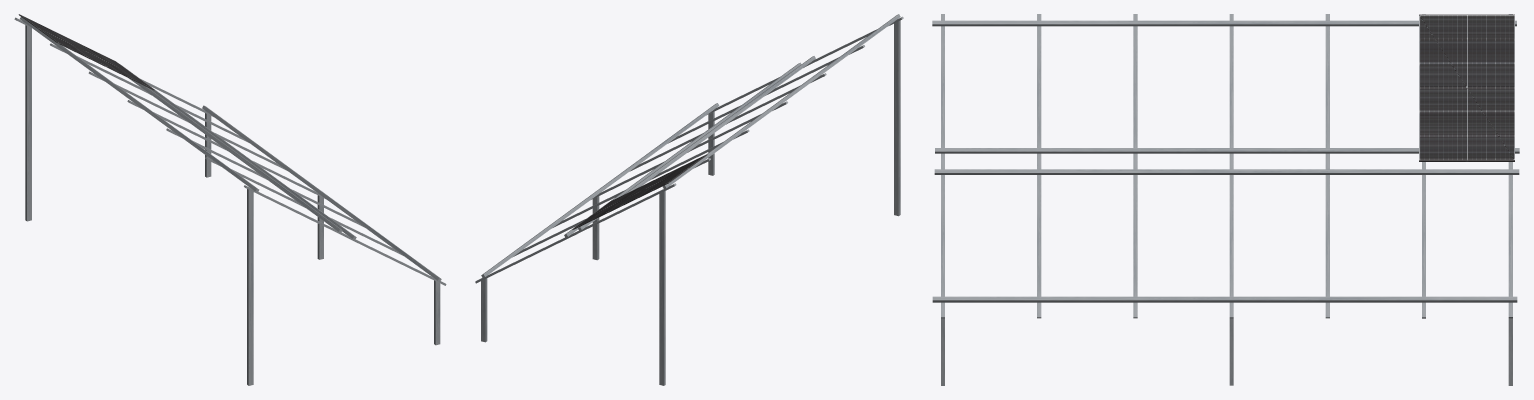
File: solar_panel_ground_1.glb
3 views of the same model, side by side, from view 1: azimuth 30°, elevation 25°; view 2: azimuth 150°, elevation 25°; view 3: azimuth 270°, elevation 25° (orthographic). The views are drawn at different scales.
Parts seen in each view (by area): view 1: konstrukcja_metal.025, konstrukcja_metal.009, konstrukcja_metal.001, konstrukcja_metal.014, panel.005, konstrukcja_metal.002, konstrukcja_metal.003, konstrukcja_metal.012; view 2: konstrukcja_metal.025, konstrukcja_metal.009, konstrukcja_metal.001, konstrukcja_metal.014, panel.005, konstrukcja_metal.002, konstrukcja_metal.003, konstrukcja_metal.004, konstrukcja_metal.023; view 3: panel.005, konstrukcja_metal.001, konstrukcja_metal.003, konstrukcja_metal.014, konstrukcja_metal.002, konstrukcja_metal.019, konstrukcja_metal.017, konstrukcja_metal.018, konstrukcja_metal.020, konstrukcja_metal.010, konstrukcja_metal.005, konstrukcja_metal.007 (+5 smaller).
Part boxes in pixels (bbox=[...]): konstrukcja_metal.025: bbox=[247, 189, 253, 385]; konstrukcja_metal.009: bbox=[25, 25, 31, 221]; konstrukcja_metal.001: bbox=[202, 105, 441, 281]; konstrukcja_metal.014: bbox=[20, 17, 259, 192]; panel.005: bbox=[18, 14, 154, 90]; konstrukcja_metal.002: bbox=[129, 78, 342, 232]; konstrukcja_metal.003: bbox=[120, 64, 356, 239]; konstrukcja_metal.012: bbox=[434, 280, 440, 345]; konstrukcja_metal.025: bbox=[894, 20, 900, 216]; konstrukcja_metal.009: bbox=[659, 191, 665, 385]; konstrukcja_metal.001: bbox=[481, 103, 719, 277]; konstrukcja_metal.014: bbox=[662, 14, 900, 189]; panel.005: bbox=[572, 154, 707, 229]; konstrukcja_metal.002: bbox=[578, 56, 815, 230]; konstrukcja_metal.003: bbox=[564, 62, 801, 237]; konstrukcja_metal.004: bbox=[481, 278, 487, 342]; konstrukcja_metal.023: bbox=[592, 196, 599, 260]; panel.005: bbox=[1419, 14, 1514, 161]; konstrukcja_metal.001: bbox=[932, 296, 1517, 302]; konstrukcja_metal.003: bbox=[934, 169, 1519, 174]; konstrukcja_metal.014: bbox=[932, 20, 1516, 26]; konstrukcja_metal.002: bbox=[935, 148, 1519, 153]; konstrukcja_metal.019: bbox=[1133, 14, 1137, 168]; konstrukcja_metal.017: bbox=[1325, 14, 1329, 168]; konstrukcja_metal.018: bbox=[1229, 14, 1233, 168]; konstrukcja_metal.020: bbox=[1037, 14, 1041, 168]; konstrukcja_metal.010: bbox=[1133, 168, 1137, 318]; konstrukcja_metal.005: bbox=[1508, 168, 1512, 318]; konstrukcja_metal.007: bbox=[1325, 168, 1329, 318].
Size of the model in its own units: 6.8 by 6.67 by 13.84.
Materials: 2 (2 with a texture image).
